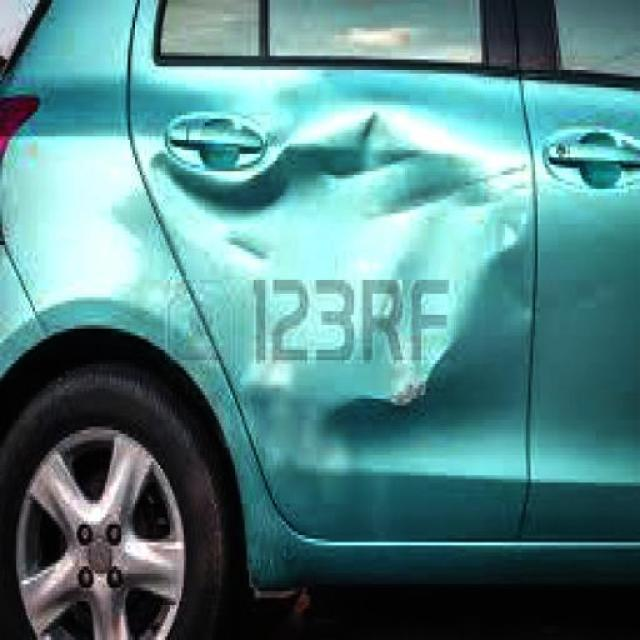car damage: (144, 112, 540, 432)
